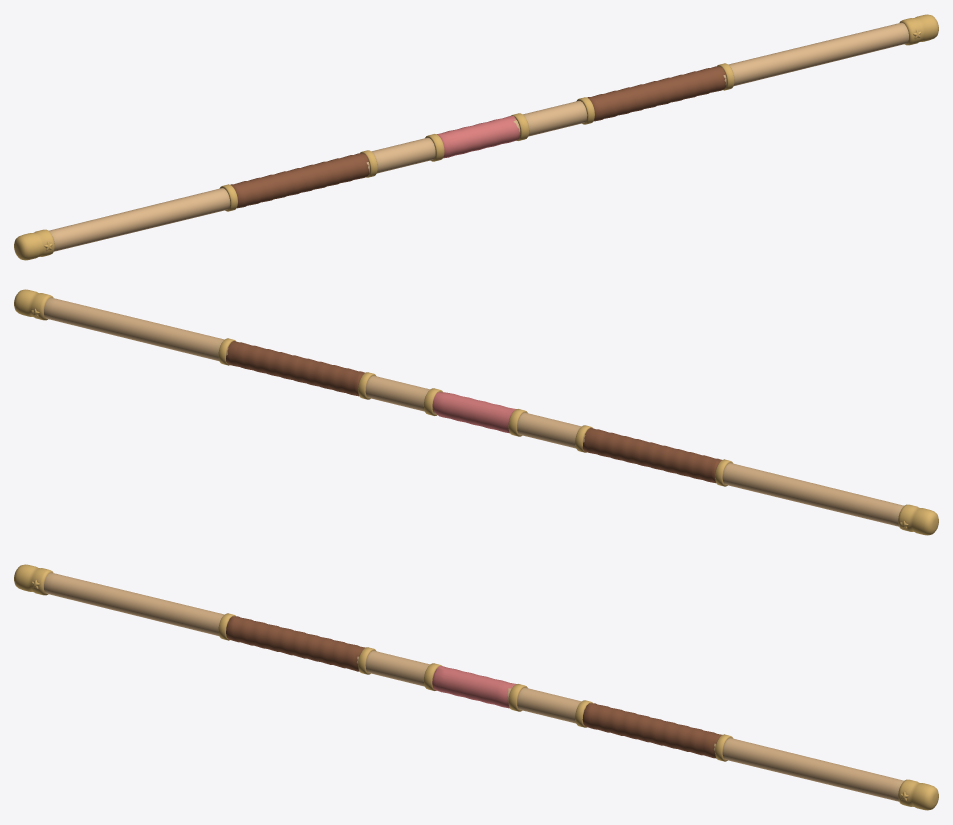
The model's file is staff.glb.
3 renders of one model, top to bottom at view 1: azimuth 30°, elevation 25°; view 2: azimuth 150°, elevation 25°; view 3: azimuth 330°, elevation 25°, orthographic.
Visible parts, largest first — view 1: staff_body; view 2: staff_body; view 3: staff_body.
Part boxes in pixels (x1,y1,x2,y2): staff_body: (14,14,938,260); staff_body: (14,289,938,535); staff_body: (14,564,938,810).
Bounding box in the file's own units: 1.8 × 0.0453 × 0.0496.
1 material, 1 textured.
